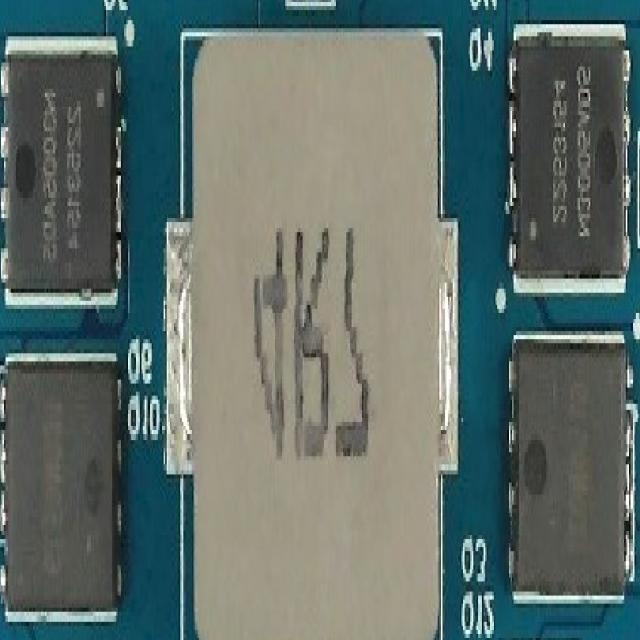IC: (506, 335, 634, 600), (510, 35, 632, 295), (2, 350, 122, 613), (2, 43, 121, 303)
inductor F1: (182, 39, 448, 640)
